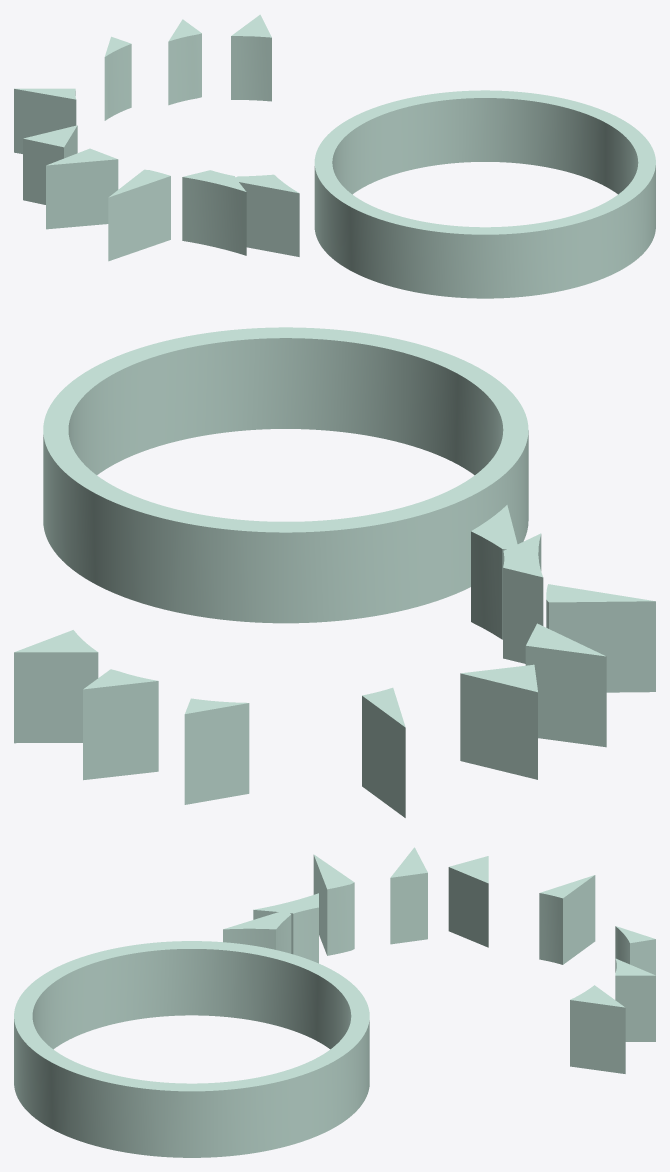
The picture shows the model from 3 angles, top to bottom: view 1: azimuth 30°, elevation 25°; view 2: azimuth 150°, elevation 25°; view 3: azimuth 270°, elevation 25°; orthographic projection. The views are drawn at different scales.
Parts seen in each view (by area): view 1: Renderer Node; view 2: Renderer Node; view 3: Renderer Node.
Boxes of the visible parts, x1,y1,x2,y2 form: Renderer Node: [14, 14, 655, 298]; Renderer Node: [14, 327, 655, 817]; Renderer Node: [14, 847, 655, 1157].
Size of the model in its own units: 1.78 by 0.2266 by 1.98.
